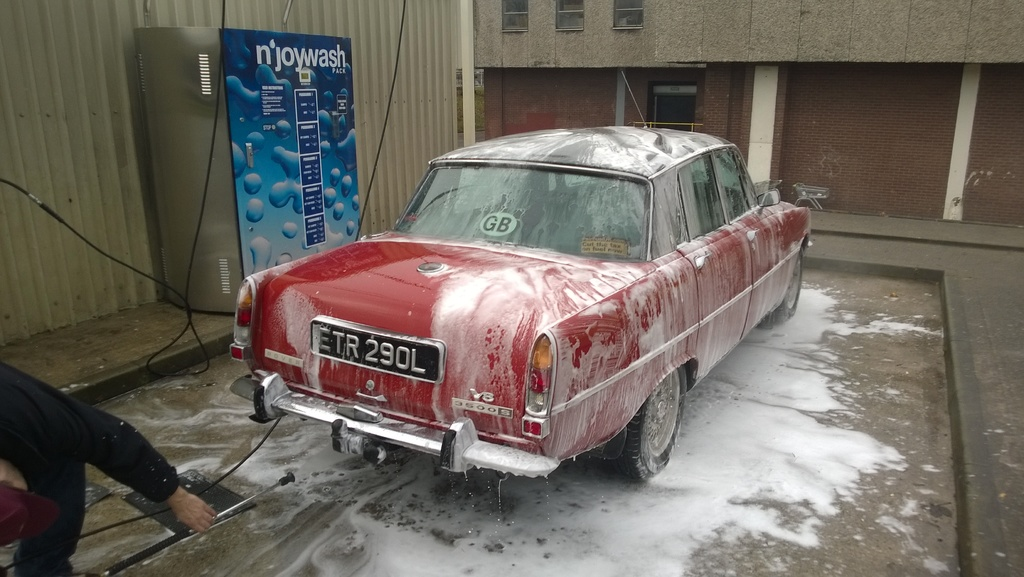Car: (231, 65, 812, 484)
